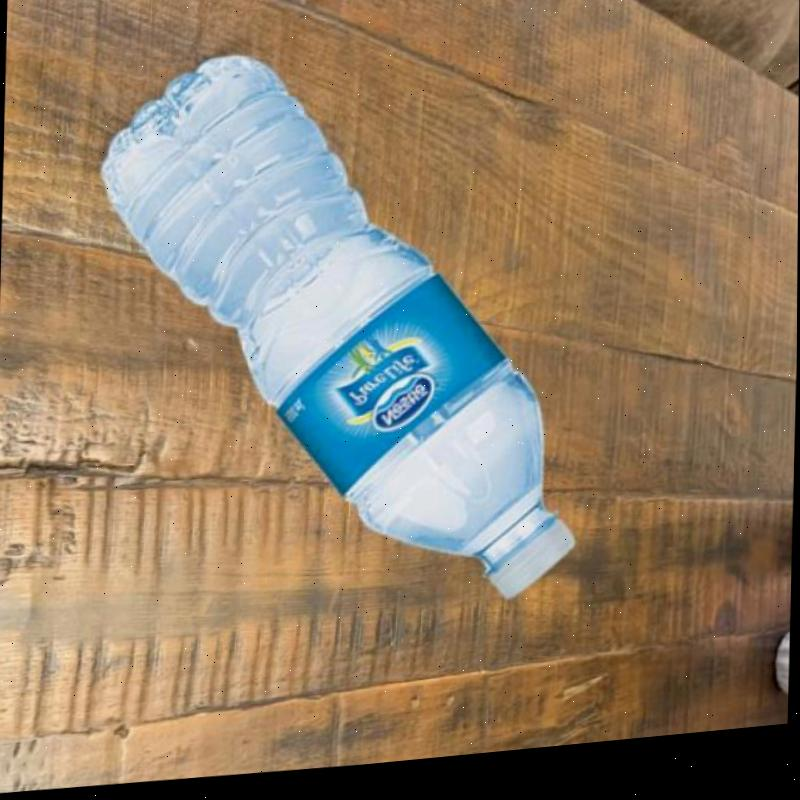botella: (91, 27, 592, 643)
